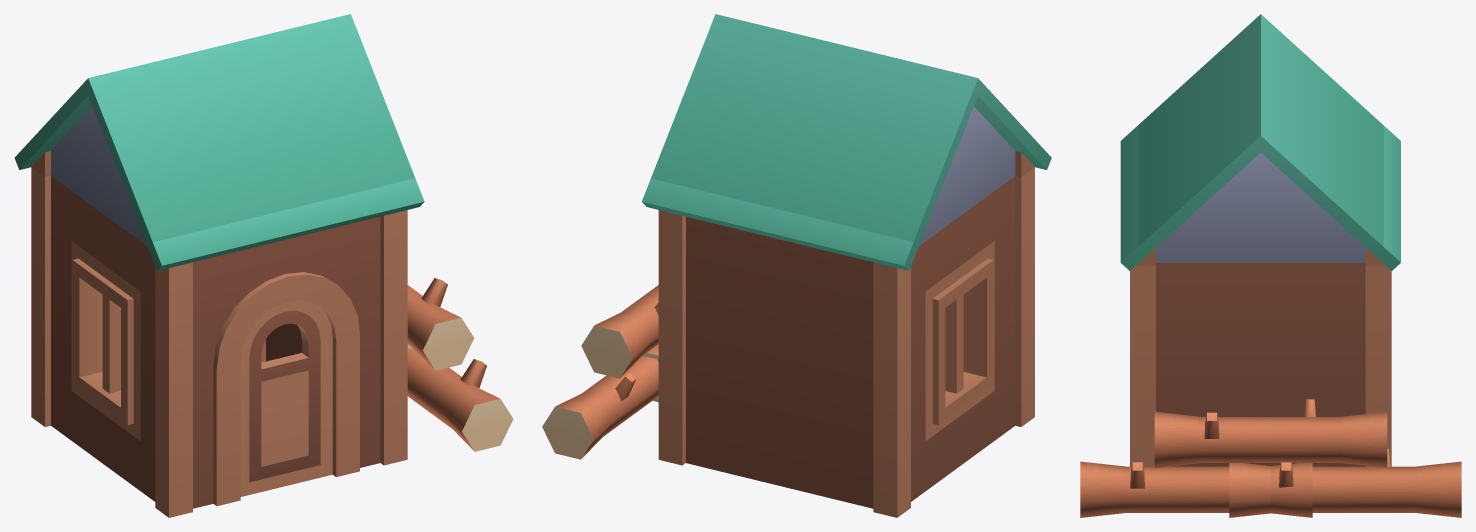
File: lumber_1.glb
The picture shows the model from 3 angles, left to right: view 1: azimuth 30°, elevation 25°; view 2: azimuth 150°, elevation 25°; view 3: azimuth 270°, elevation 25°; orthographic projection. The views are drawn at different scales.
Visible parts, largest first — view 1: lumber_1; view 2: lumber_1; view 3: lumber_1.
Boxes of the visible parts, left/top/right/bottom form: lumber_1: left=14, top=14, right=513, bottom=517; lumber_1: left=542, top=14, right=1051, bottom=517; lumber_1: left=1080, top=14, right=1461, bottom=517.
Size of the model in its own units: 0.8611 by 0.9738 by 0.902.
Materials: 8 (8 with a texture image).
